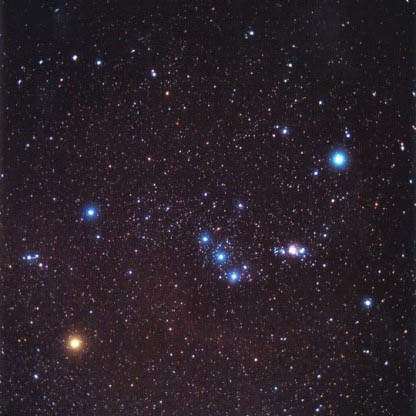Orion: (54, 324, 88, 360), (78, 199, 105, 227), (216, 266, 245, 288), (329, 147, 357, 169), (356, 291, 380, 316), (205, 248, 233, 266), (190, 232, 218, 245)
